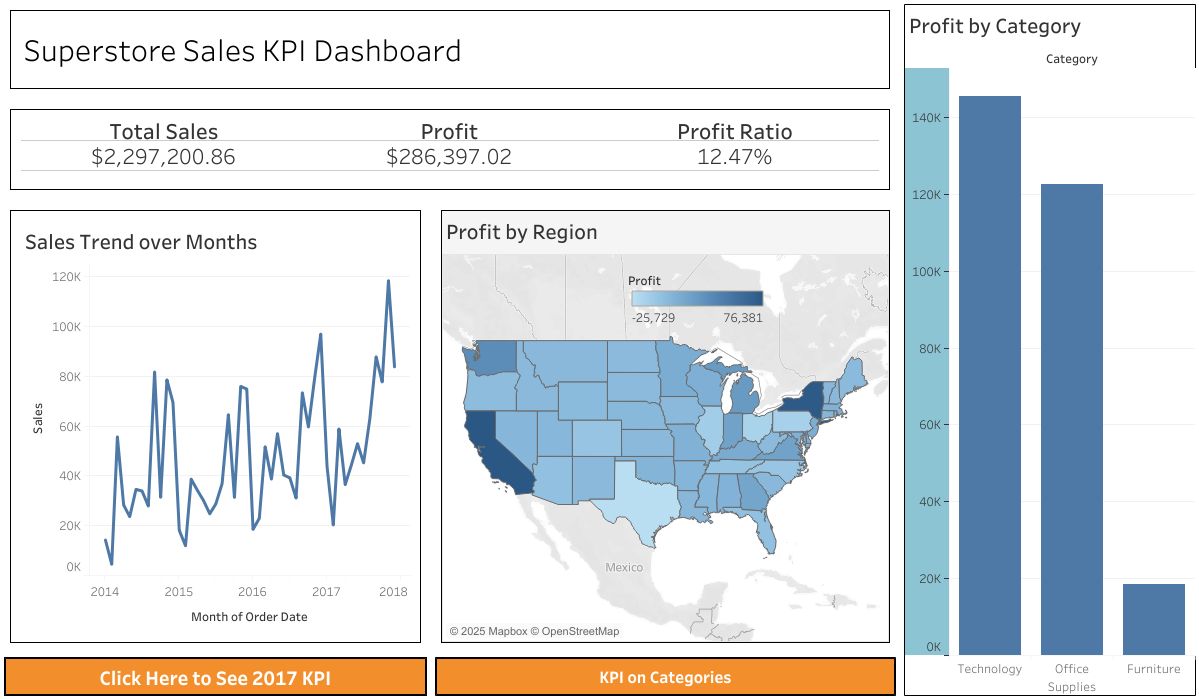

What the dashboard file says about the page in this screenshot:
{"tool":"tableau","page":{"name":"Sales Dashboard","canvas":[1200,700],"ordinal":2},"visuals":[{"type":"text","box":[0,0,900,99]},{"type":"worksheet","title":"Profit by Category","mark":"Automatic","rows":["Profit"],"cols":["Category"],"box":[900,0,300,700]},{"type":"worksheet","title":"KPIs","mark":"Text","box":[0,99,900,101]},{"type":"worksheet","title":"Sales Trend over Months","mark":"Automatic","rows":["Sales"],"cols":["Order Date"],"box":[0,200,431,453]},{"type":"worksheet","title":"Profit by Region","mark":"Automatic","box":[431,200,469,453]},{"type":"legend","title":"Profit by Region","param":"[federated.1cjwt6l0jaw0pu14xddow1wtyck2].[sum:Profit:qk]","box":[628,267.2,140,86.3]},{"type":"dashboard-object","box":[0,653,431,47]},{"type":"dashboard-object","box":[431,653,469,47]}]}

Visuals, with their boxes in screenshot pixels (x1, y1, x2, y2), scaled from the page's 1200x700 canvas onto the 1199x699 screenshot:
text: (0,0,899,99)
"Profit by Category" worksheet: (899,0,1198,698)
"KPIs" worksheet (Text marks): (0,99,899,200)
"Sales Trend over Months" worksheet: (0,200,431,652)
"Profit by Region" worksheet: (431,200,899,652)
"Profit by Region" legend: (627,267,767,353)
dashboard-object: (0,652,431,698)
dashboard-object: (431,652,899,698)
